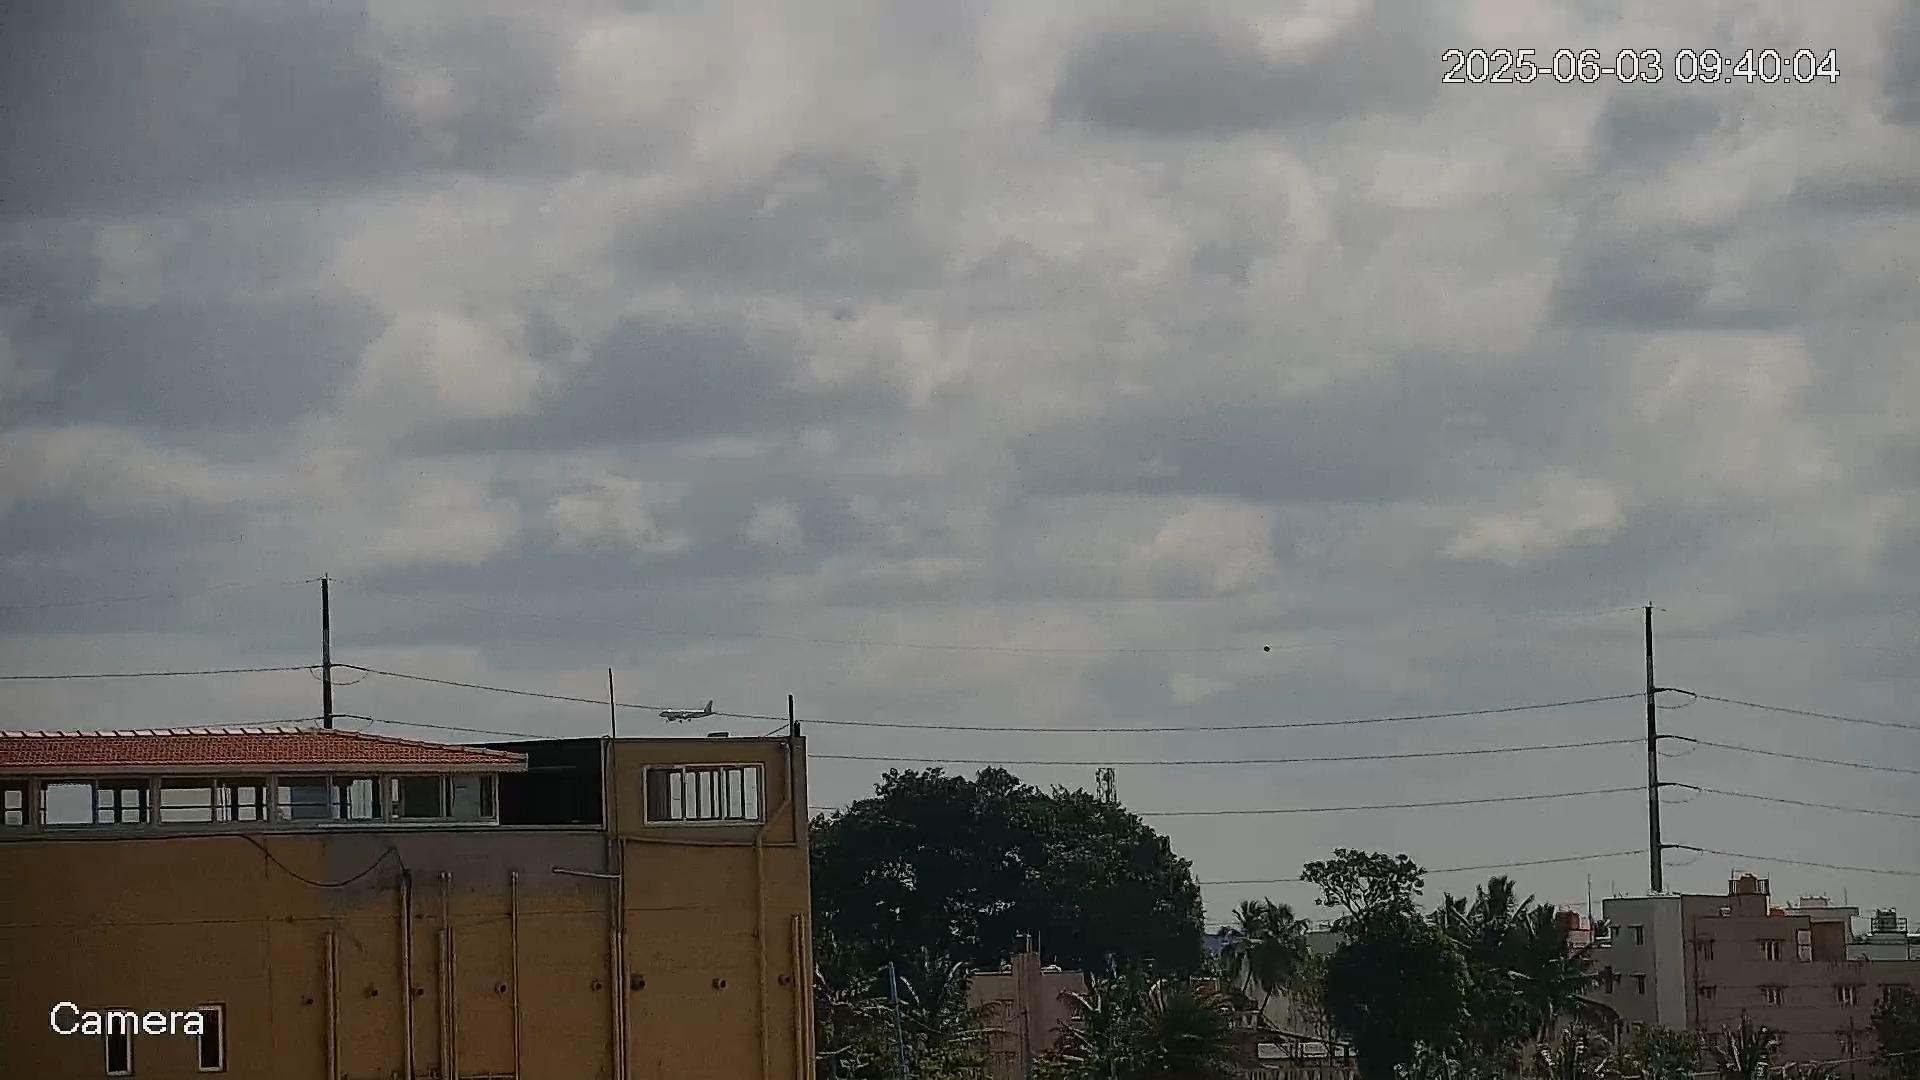Aircraft: (658, 699, 717, 724)
